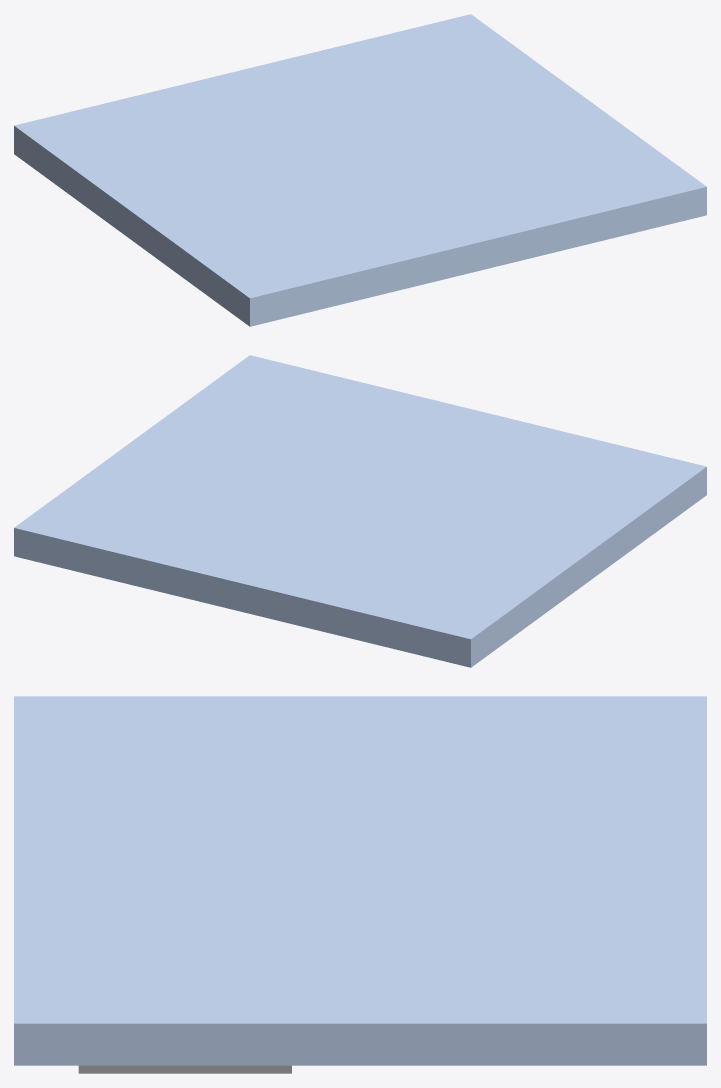
The model's file is 门卫室.glb.
The picture shows the model from 3 angles, top to bottom: view 1: azimuth 30°, elevation 25°; view 2: azimuth 150°, elevation 25°; view 3: azimuth 270°, elevation 25°; orthographic projection. The views are drawn at different scales.
Visible parts, largest first — view 1: 门卫室.001; view 2: 门卫室.001; view 3: 门卫室.001.
Boxes of the visible parts, bbox=[...] form: 门卫室.001: bbox=[14, 14, 706, 326]; 门卫室.001: bbox=[14, 355, 706, 667]; 门卫室.001: bbox=[14, 696, 706, 1073].
Bounding box in the file's own units: 7.83 × 0.7045 × 7.
